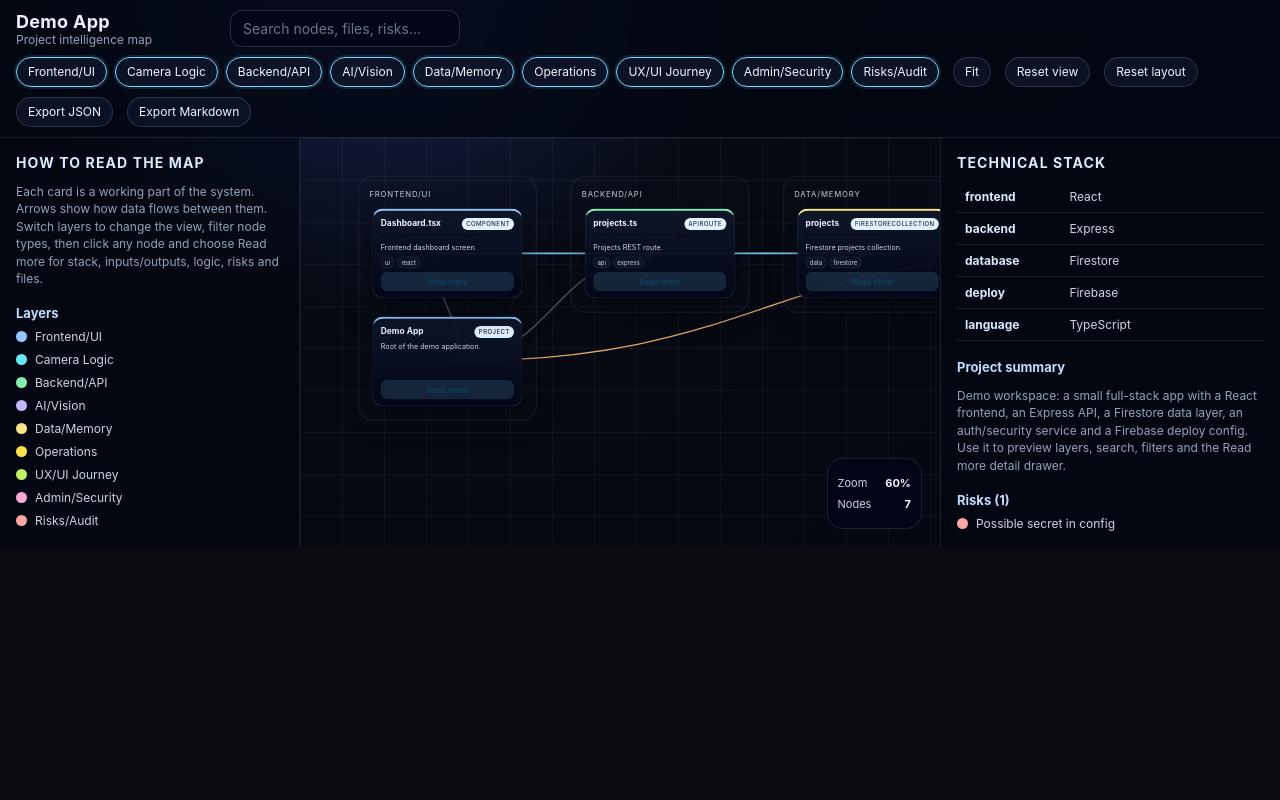
GhostMap render › opens the Read more modal for a node
Click the button "Read more" below "Root of the demo application." at (447, 390), box [381,380,514,399]
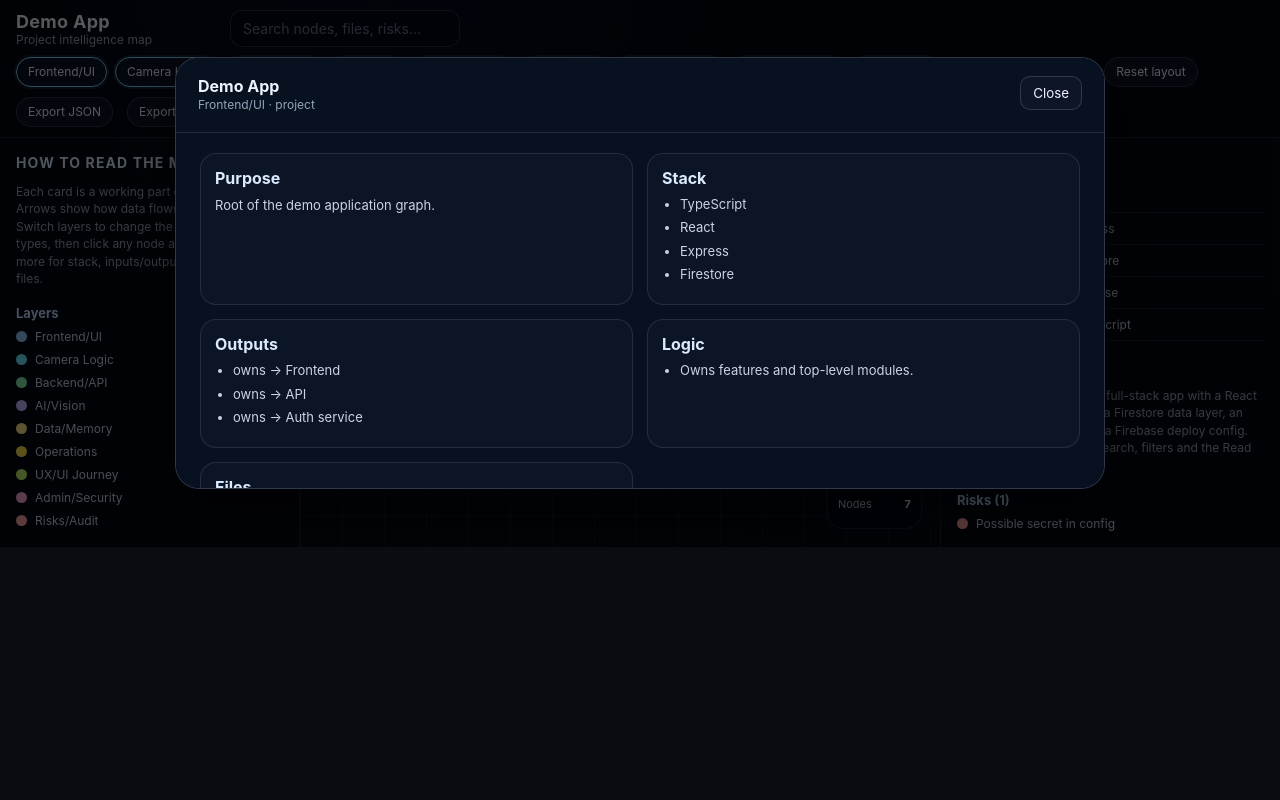
Now the heading "Purpose" is shown, box [215,168,280,188]
